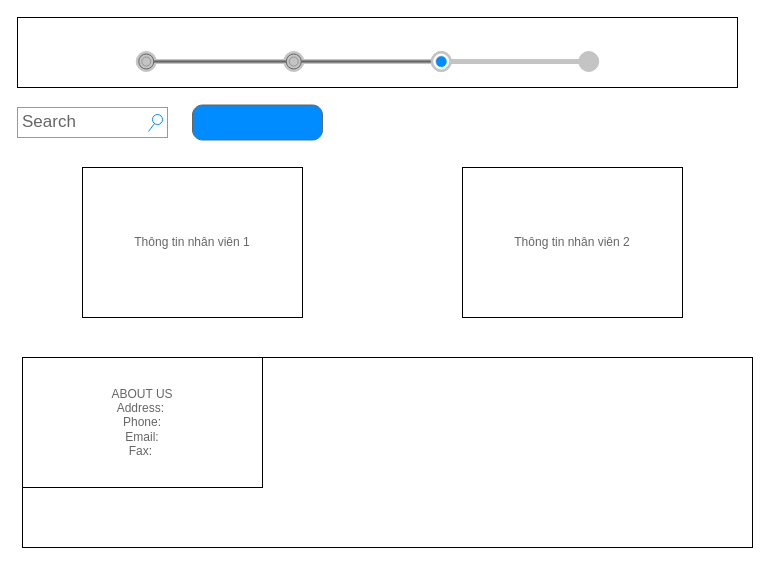
Image size: 770x565. Some labels were removed from this diagram. The shapes that lost their labels are listed below. From the top down, each one's box as (x1, y1, x2, y2) in pixels, then its label:
(72, 26, 662, 78): Home Nhân viên Phòng ban Bảng Lương
(192, 104, 322, 140): Tìm kiếm
